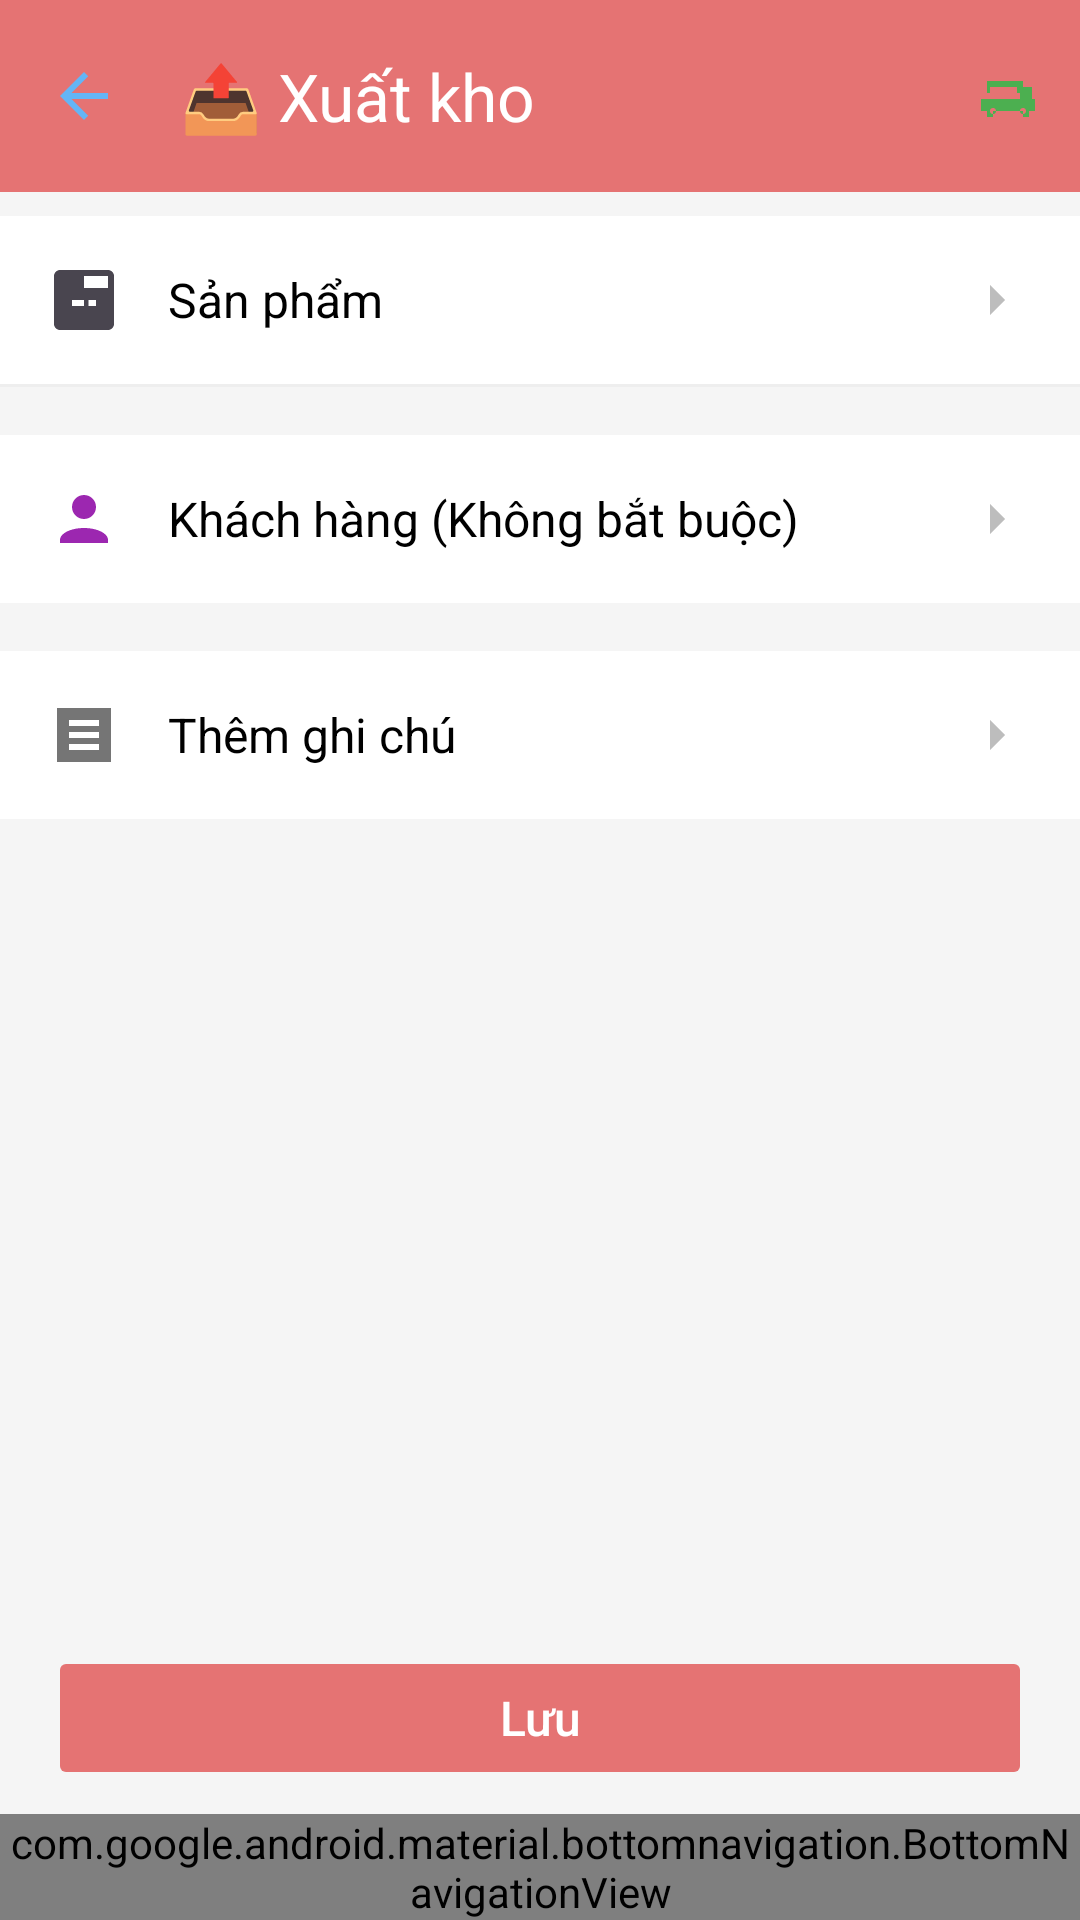

Screen size 1080 x 1920. Icon name, then its center in pixels as [x,y]:
arrow right: [997,300], [997,519], [997,735]
customer: [84,519]
note: [84,735]
product: [84,300]
